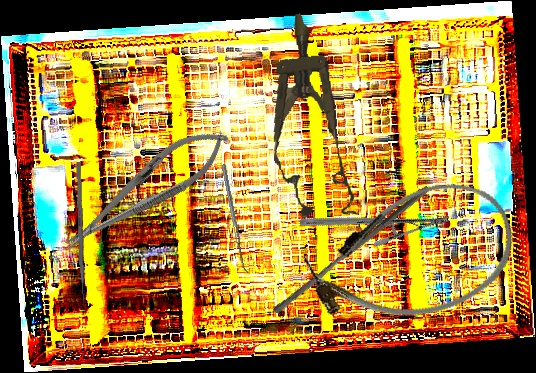Cannula: (293, 164, 531, 348)
Needle Holder: (52, 114, 239, 265), (297, 154, 452, 288)
Pusher: (272, 179, 431, 320), (75, 161, 87, 312)
Spatula Surgical: (221, 163, 251, 275)
Speculum: (259, 9, 359, 223)
